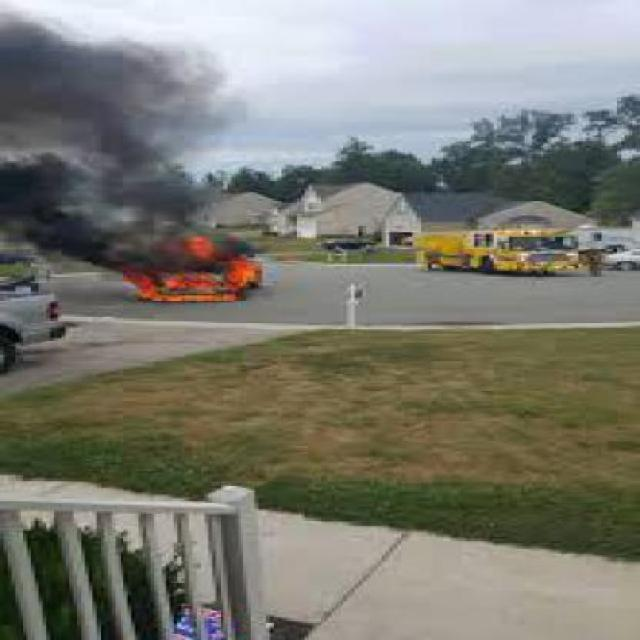Fire: (130, 241, 267, 308)
Smoke: (10, 44, 196, 238)
